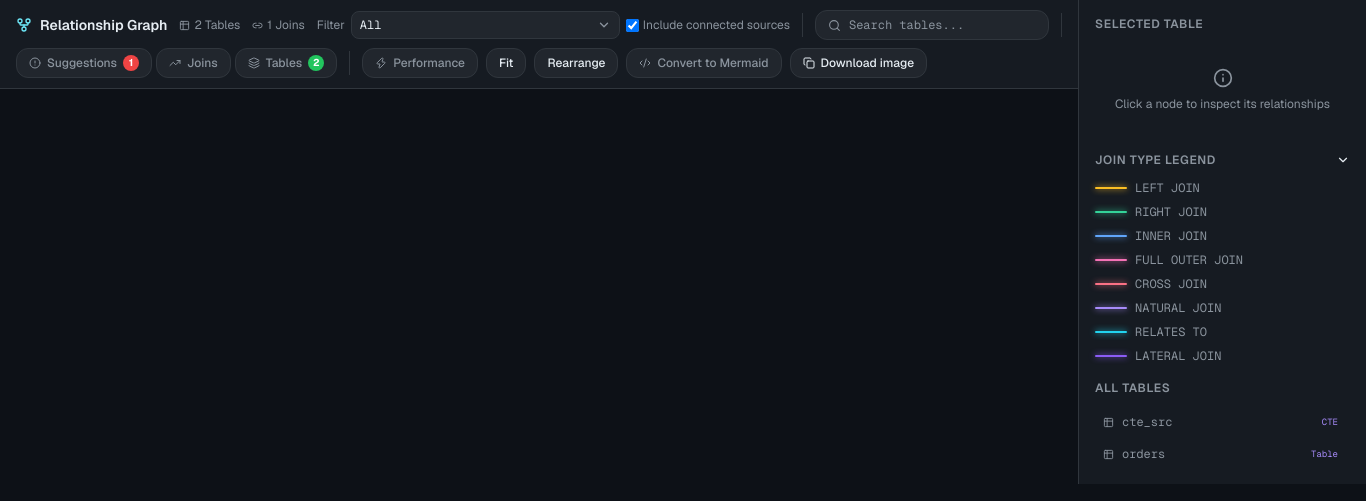
Scenario: image export from the visible map (019 A20, A21) › A21: without a surface the page says the image is unavailable and keeps the diagram text
Click the button "Download image" at (858, 63), box x1=790 y1=48 x2=927 y2=78
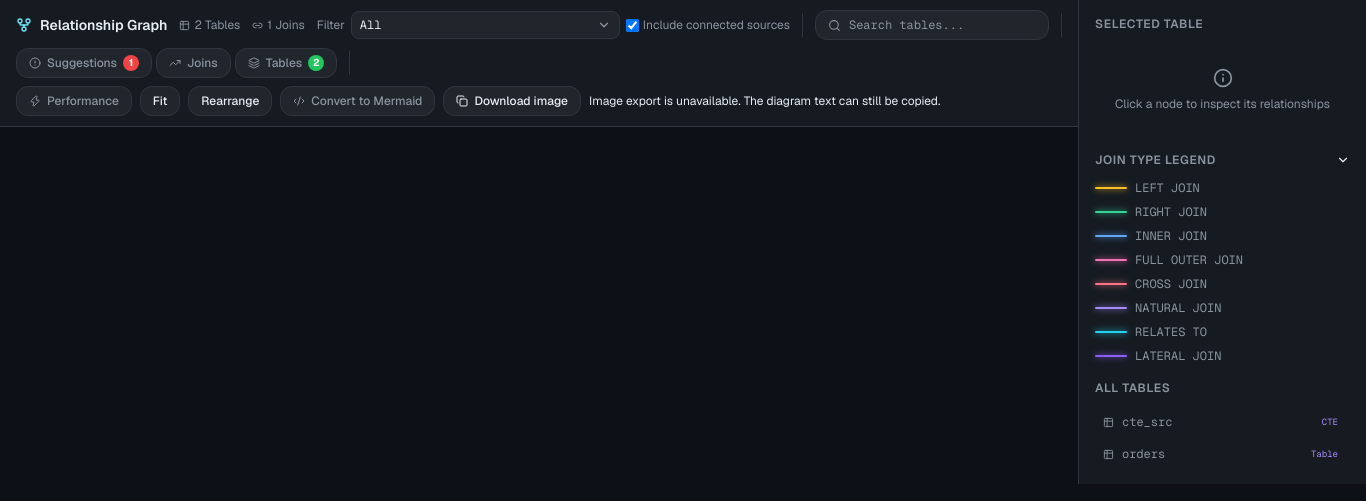
Expected: the button "Convert to Mermaid" is shown, x1=280 y1=86 x2=435 y2=116
Expected: the text "Image export is unavailable. The diagram text can still be copied." is shown, x1=589 y1=93 x2=940 y2=109
